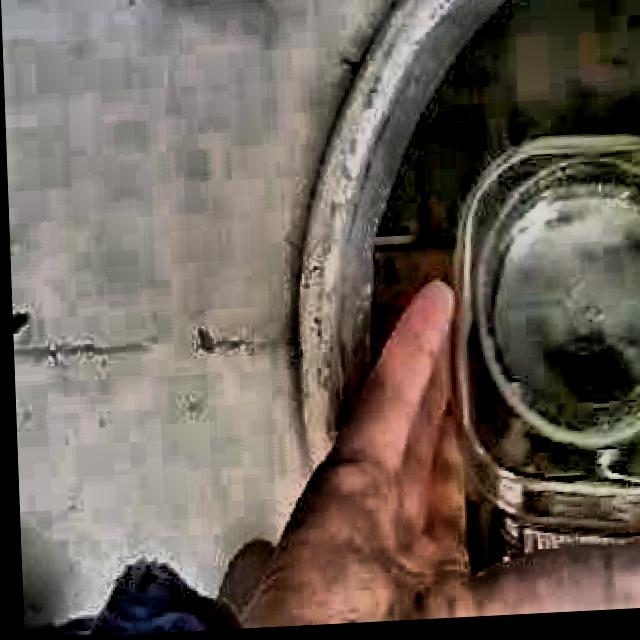glass: (450, 142, 640, 574)
